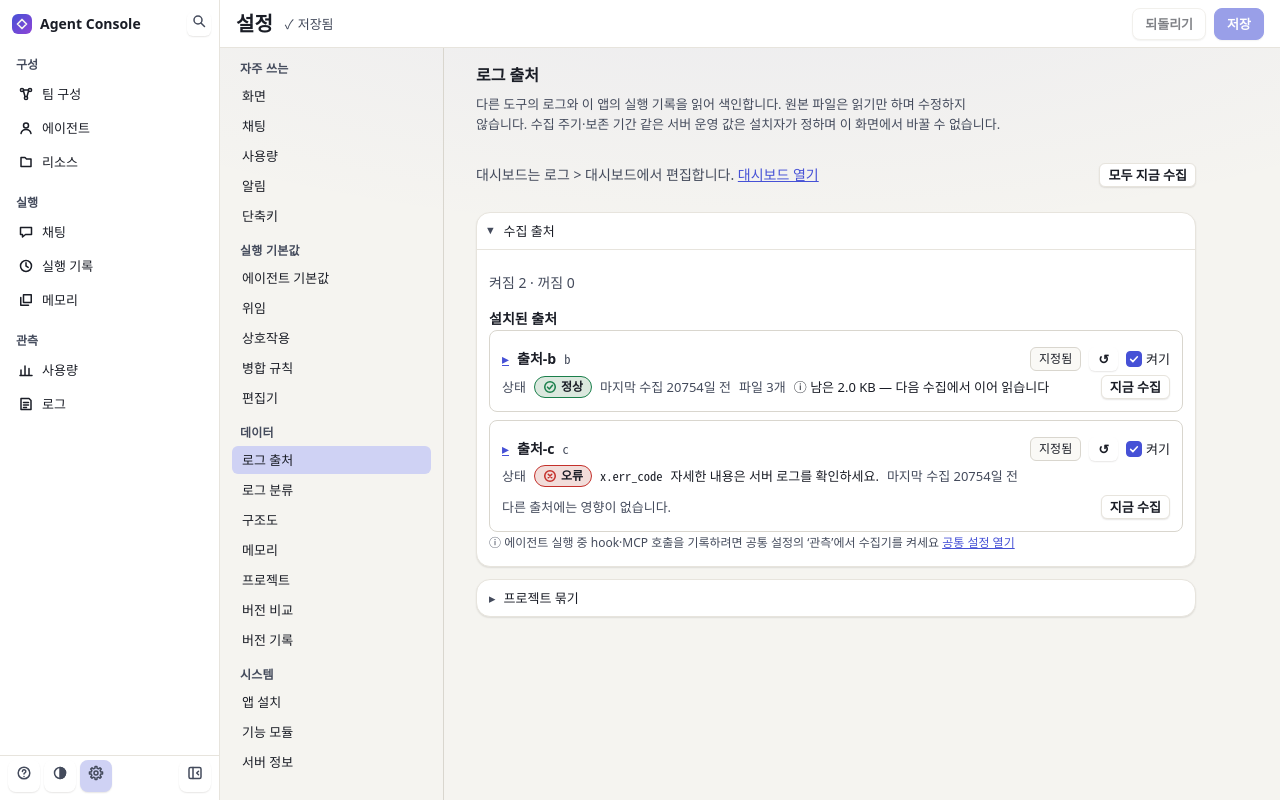
Scenario: 설정: 로그 출처 › 읽지 않는 출처는 확인 없이 켜지고, http가 아닌 문서 주소는 링크가 아니다. 상태 줄은 서버 오류 코드·남은 양을 그대로 보인다
The width and height of the screenshot is (1280, 800).
Expected: the list item "출처-b" shows "남은 2.0 KB", 810,378 -> 1049,396
Expected: the list item "출처-c" shows "x.err_code", 600,466 -> 662,485
Click the button named "설정 펼치기". click: (506,359)
box: 502,347 -> 509,371
(page scrolled)
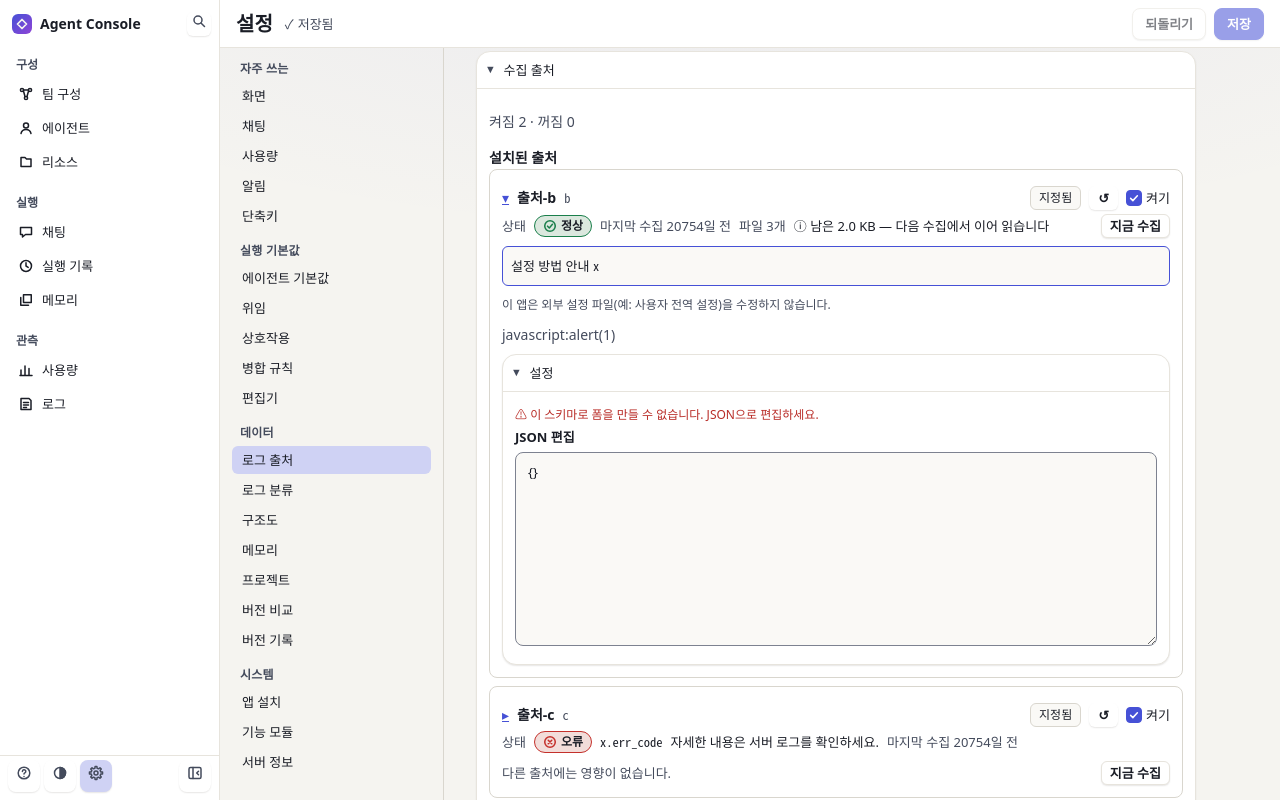
Now the list item "출처-b" shows "javascript:alert(1)", box 502,325 -> 615,344
Now the list item "출처-b" shows "외부 설정 파일", box 502,296 -> 831,313
